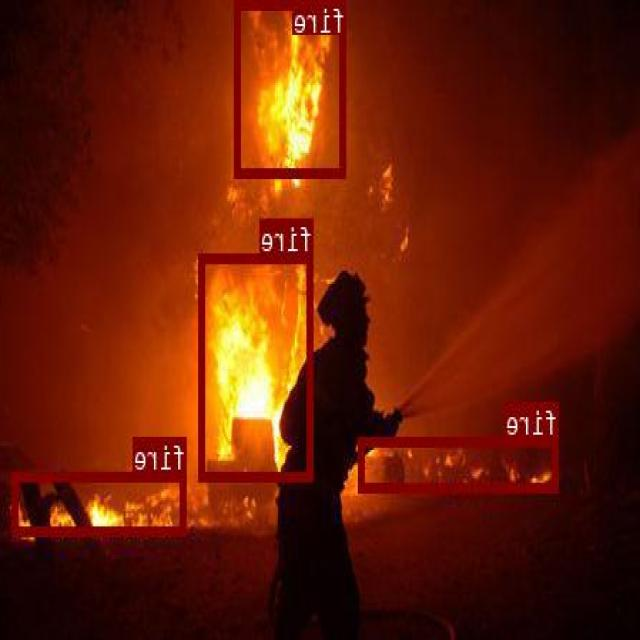fire: (201, 252, 314, 479), (236, 0, 346, 175), (14, 470, 188, 534), (360, 437, 560, 491)
